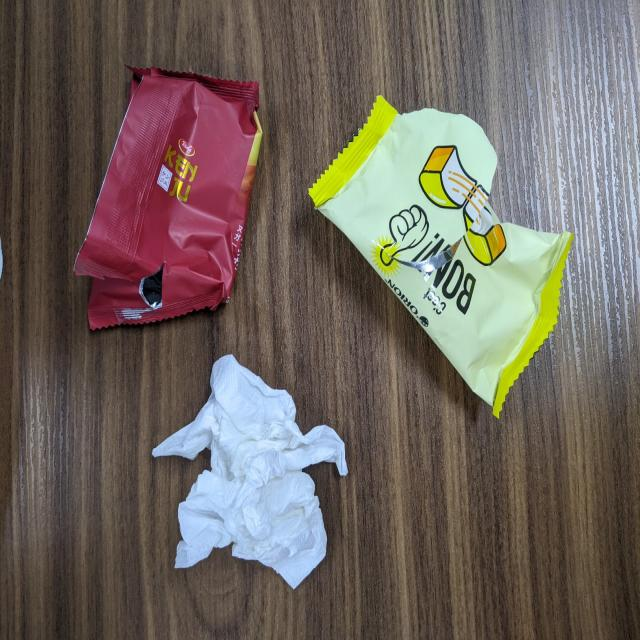napkin: (151, 352, 348, 588)
snack package: (308, 94, 574, 418), (73, 64, 263, 332)
